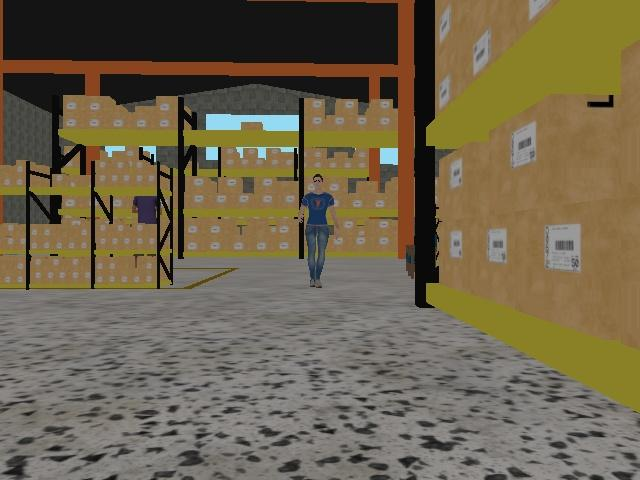person: (295, 172, 343, 289)
